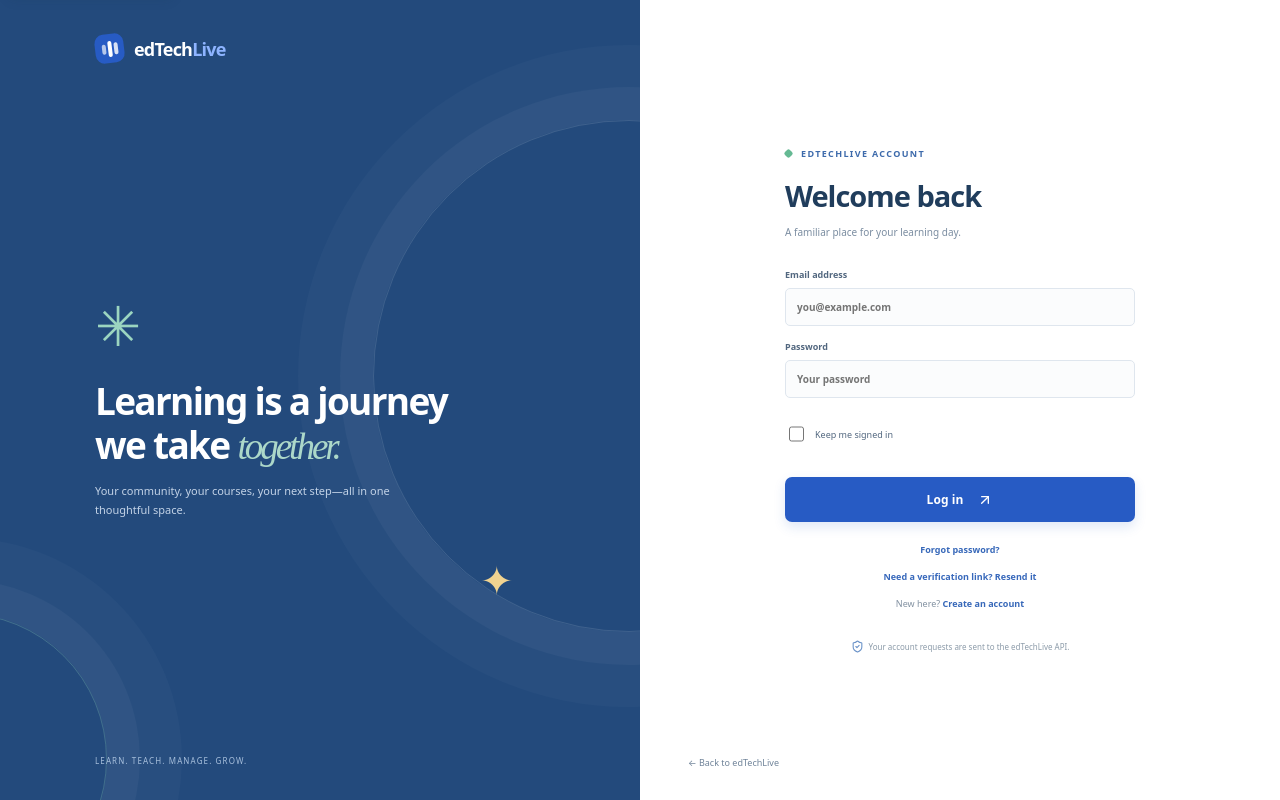
Test: account verification and sign-in › keeps a login path available after an unverified sign-in and verifies a resent local link in place
In the field labelled "Email address": {"x": 960, "y": 307} x1=785 y1=288 x2=1135 y2=326, type "asha@example.test"
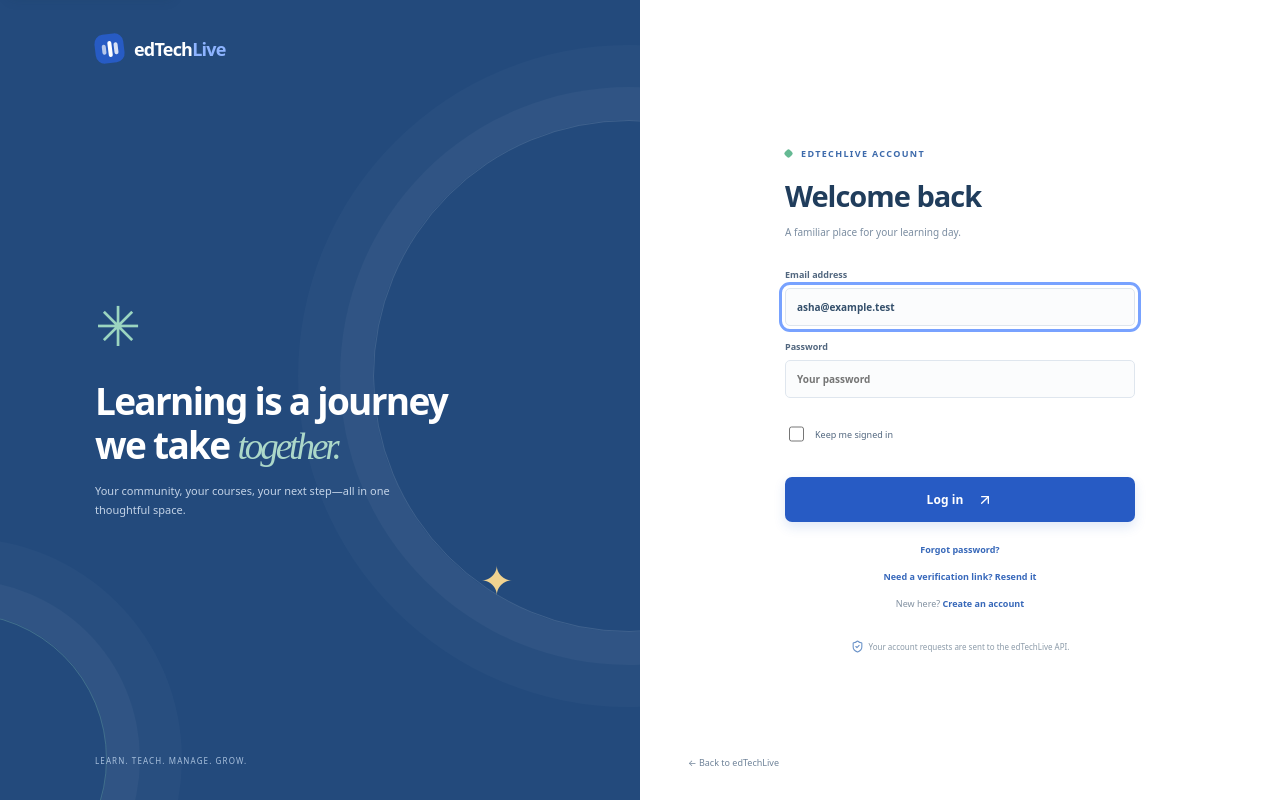
In the password field labelled "Password": {"x": 960, "y": 379} x1=785 y1=360 x2=1135 y2=398, type "CorrectHorseBattery1"
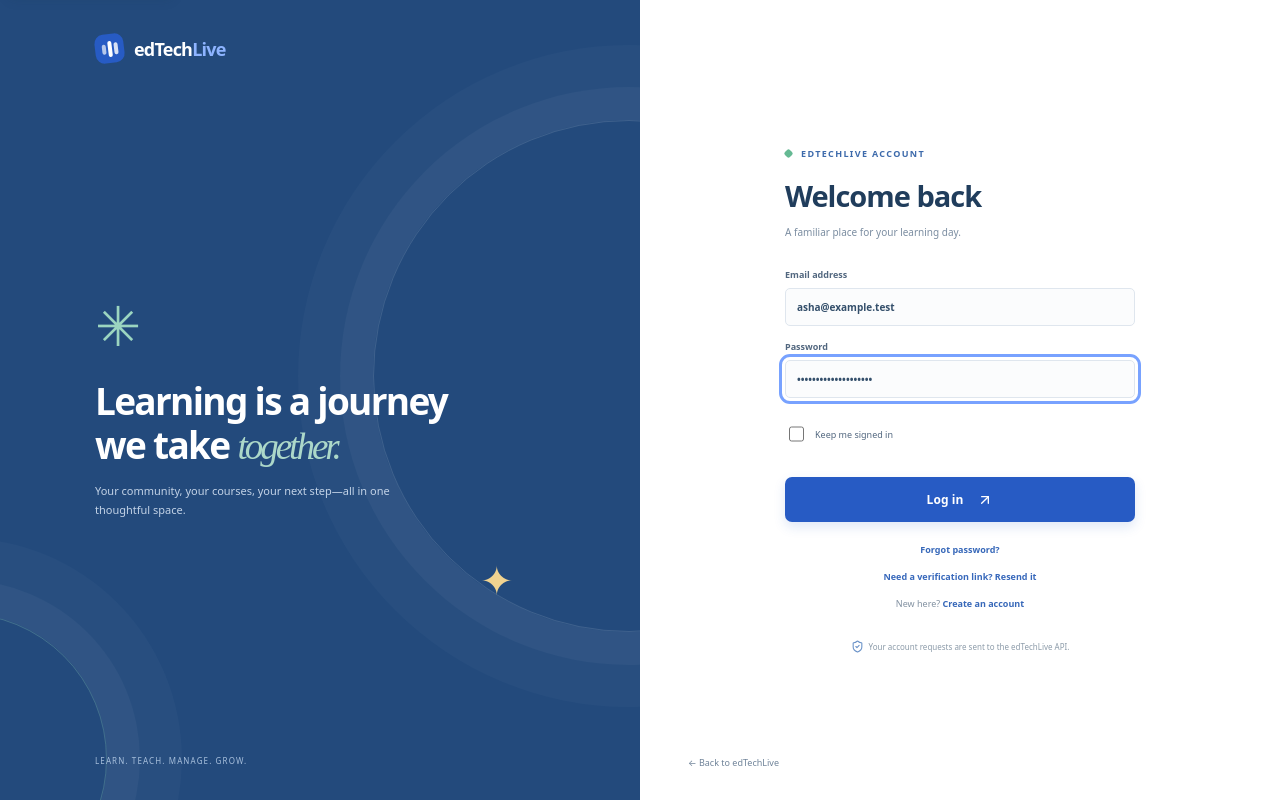
Click the button "Log in": {"x": 960, "y": 500} x1=785 y1=477 x2=1135 y2=522
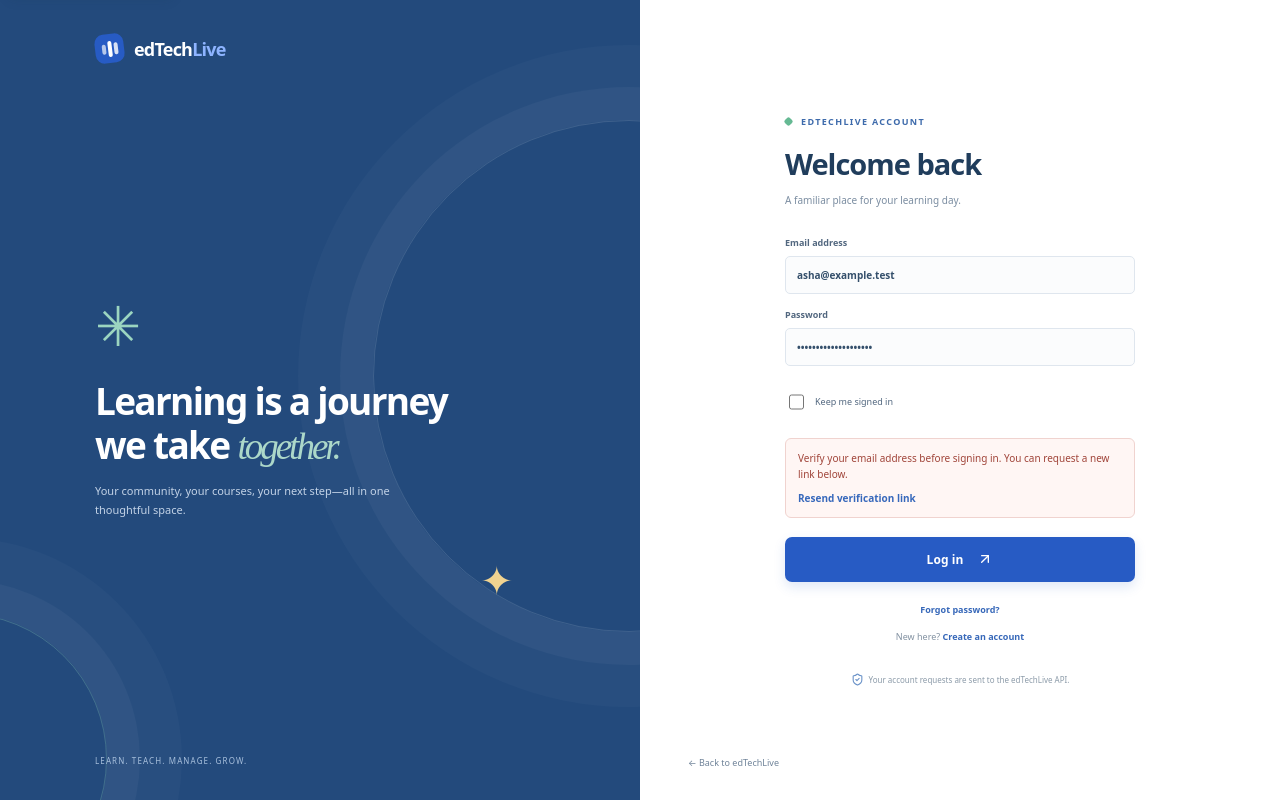
Check: the message shows "Verify your email address", box x1=798 y1=450 x2=1110 y2=480
Check: the button "Resend verification link" is shown
Click the button "Resend verification link": {"x": 857, "y": 498} x1=798 y1=490 x2=1122 y2=506
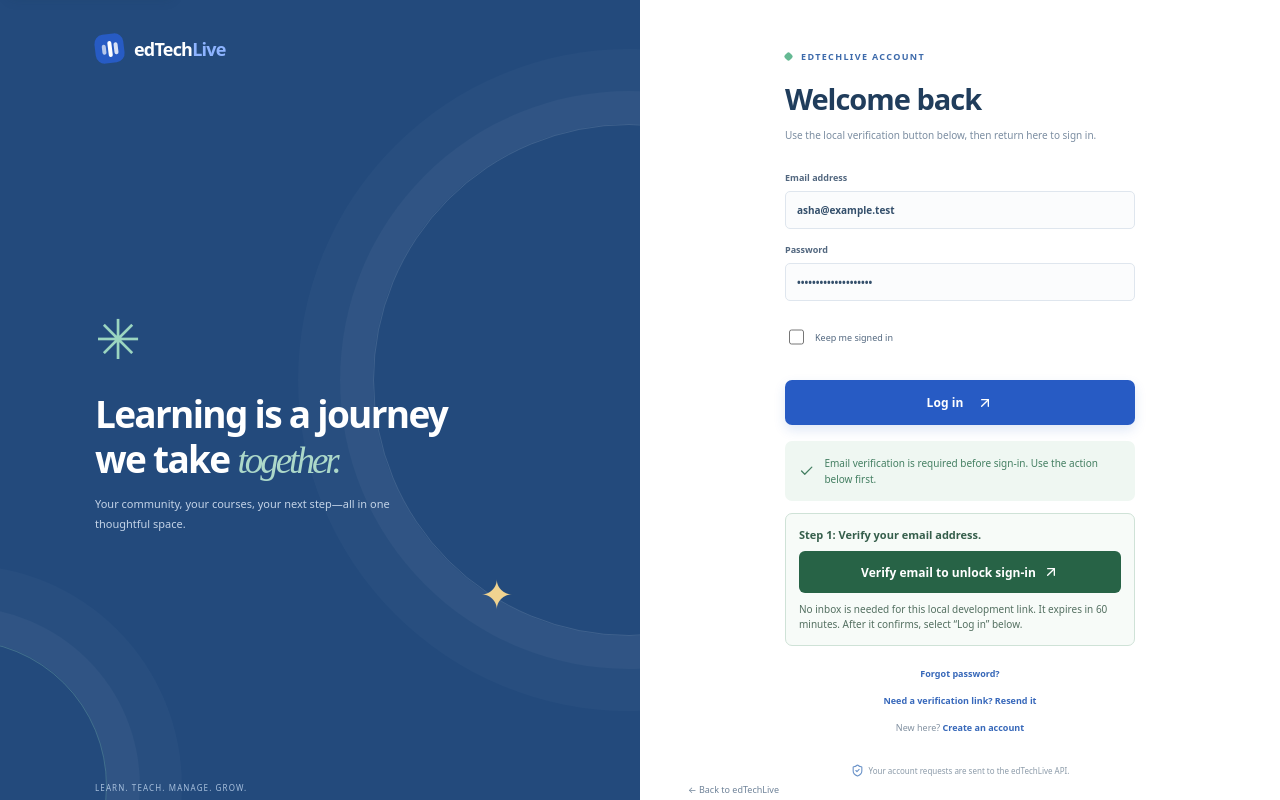
Click the button "Verify email to unlock sign-in": {"x": 960, "y": 572} x1=799 y1=551 x2=1121 y2=593
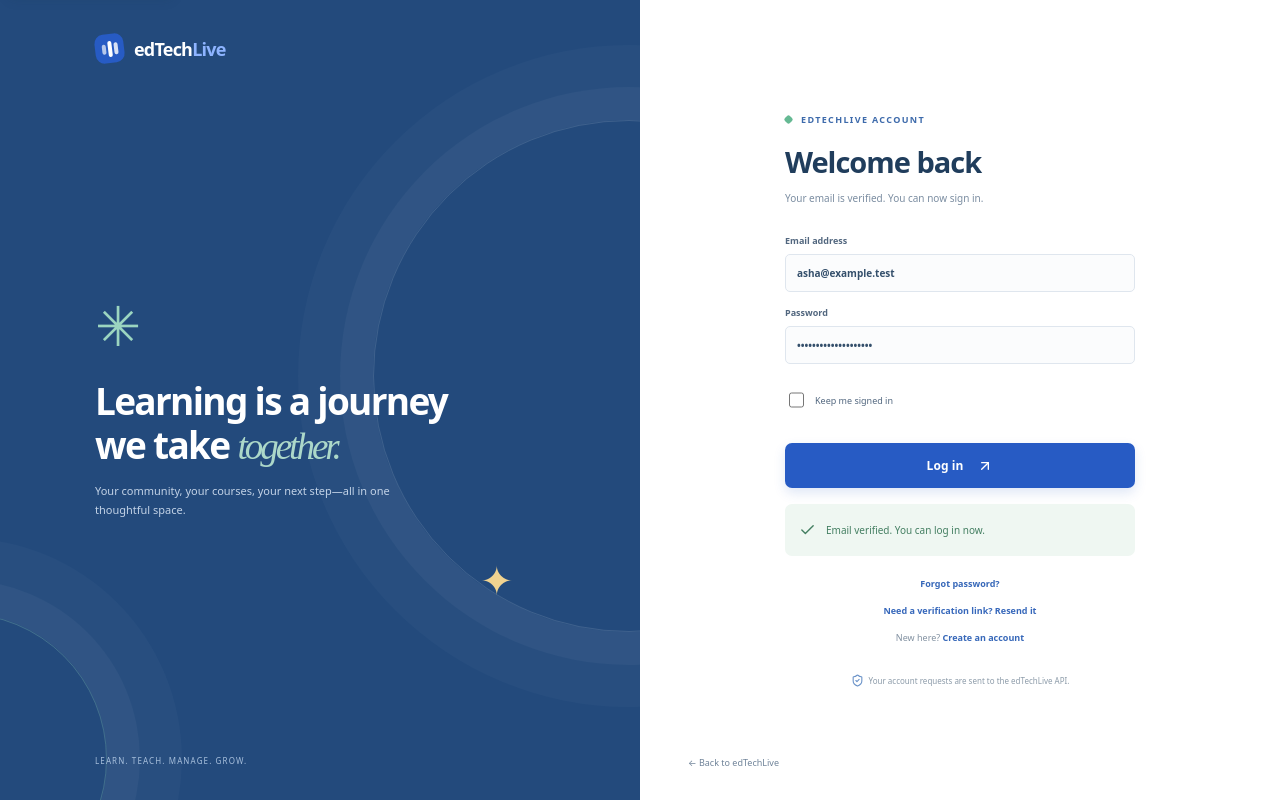
Check: the message reads "Email verified. You can log in now.", box x1=826 y1=523 x2=985 y2=537
Click the button "Log in": {"x": 960, "y": 466} x1=785 y1=443 x2=1135 y2=488
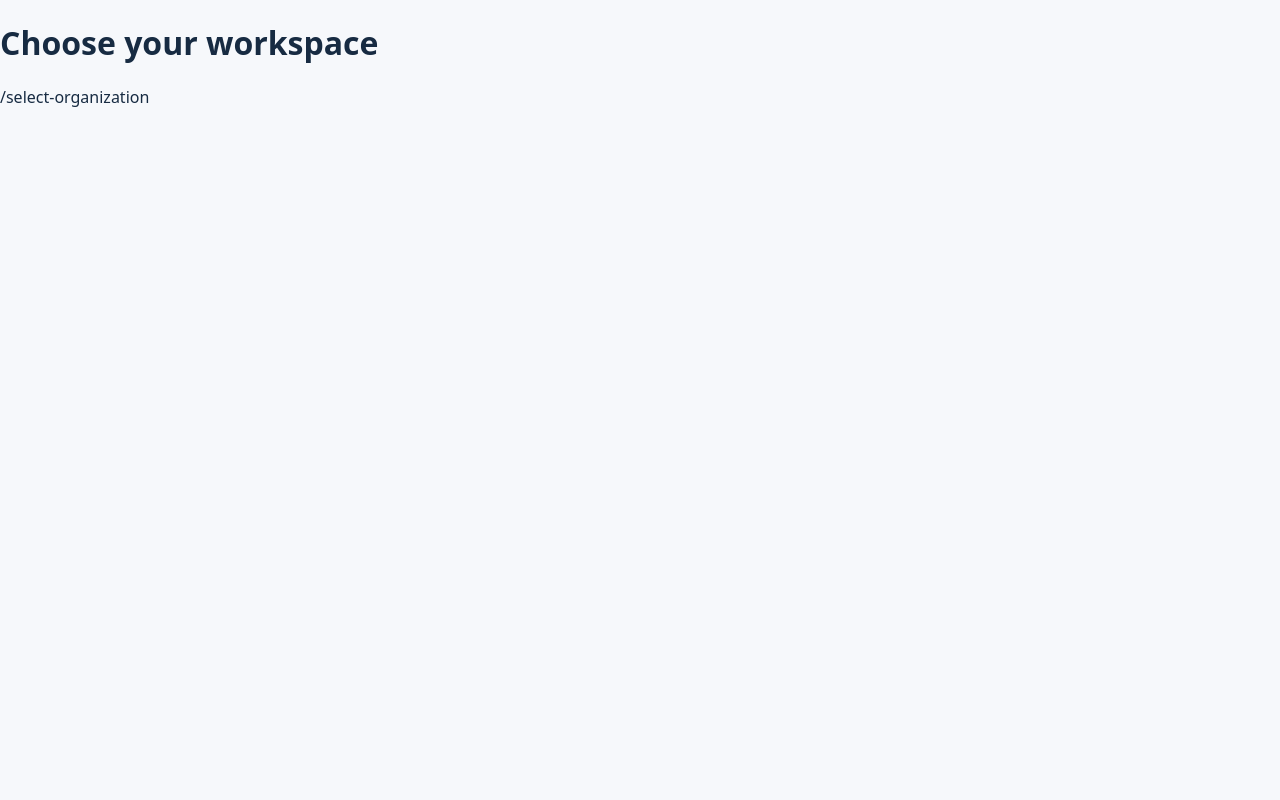
Check: the heading "Choose your workspace" is shown, box x1=0 y1=21 x2=378 y2=64
Check: the text with test id "current-route" reads "/select-organization", box x1=0 y1=86 x2=149 y2=108
